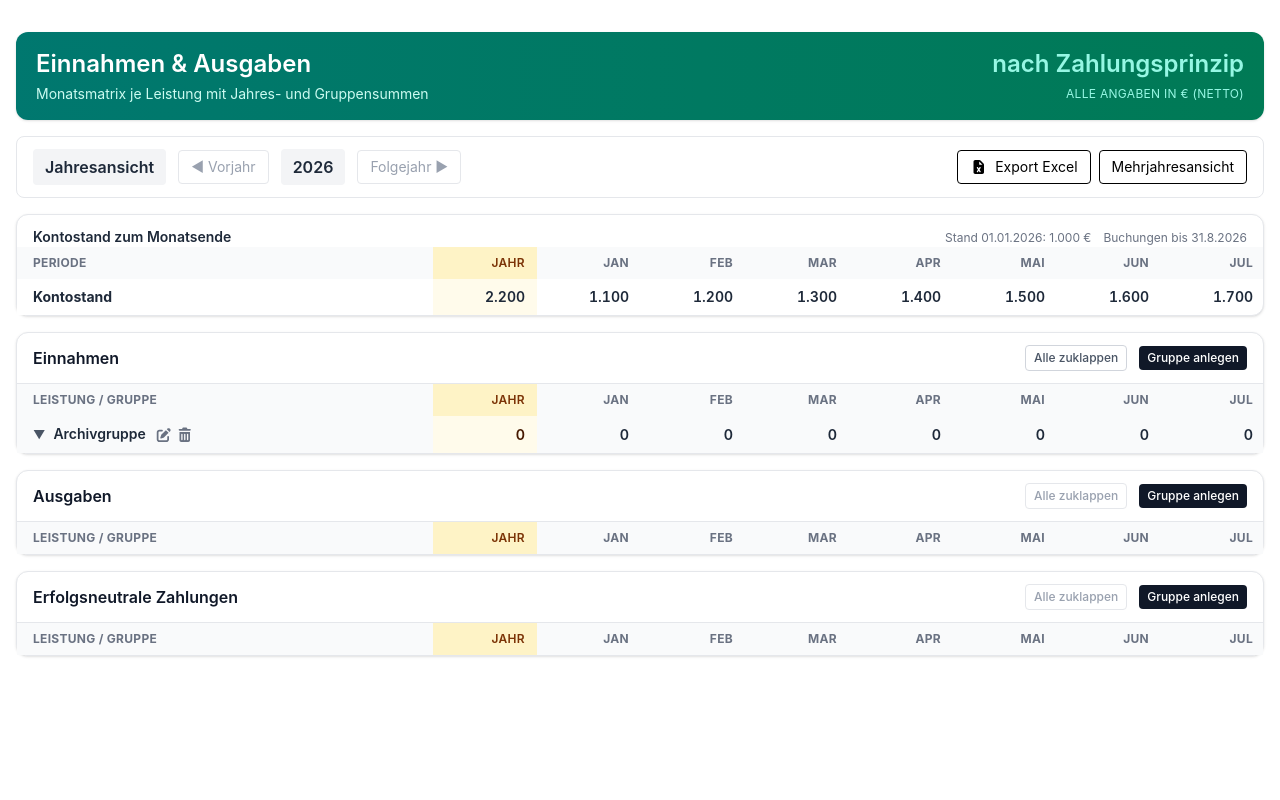
Test: IncomeExpensePage › blocks deleting a group that still has assigned services in other years
Expected: the text "Archivgruppe" is shown, [53,425,146,442]
Click the button named "Gruppe Archivgruppe löschen" at (185, 435), box [175,425,195,445]
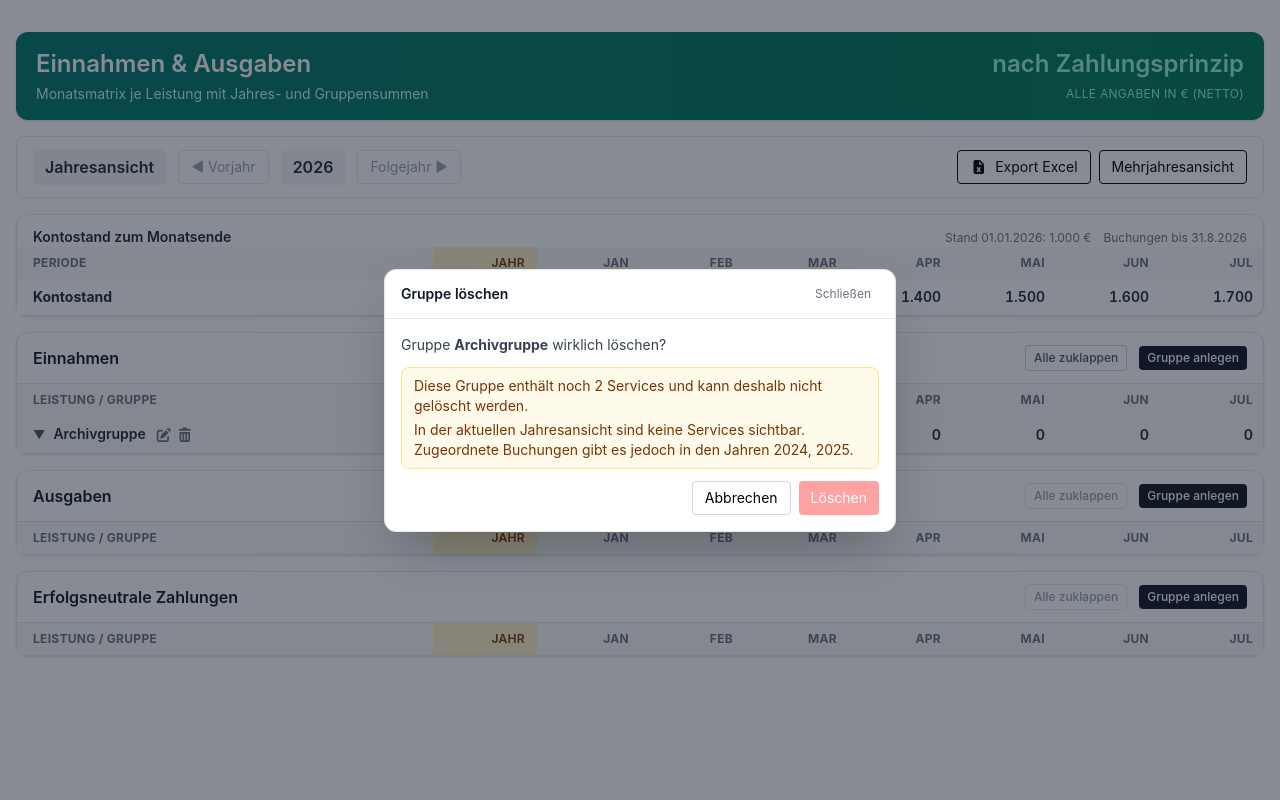
Result: the text "Diese Gruppe enthält noch 2 Services" is shown at [414,376,866,416]
Result: the text "In der aktuellen Jahresansicht sind keine Services sichtbar" is shown at [414,420,805,458]
Result: the text "2024, 2025" is shown at [773,440,850,458]
